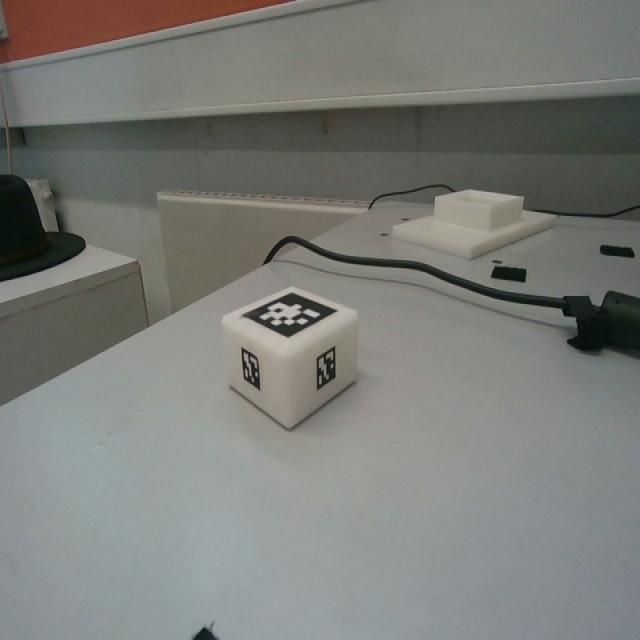Cube: (221, 283, 360, 429)
